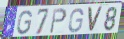7: (36, 8, 50, 37)
8: (103, 6, 117, 32)
G: (16, 9, 33, 36), (67, 8, 84, 34)
P: (49, 8, 68, 35)
V: (87, 7, 104, 33)
